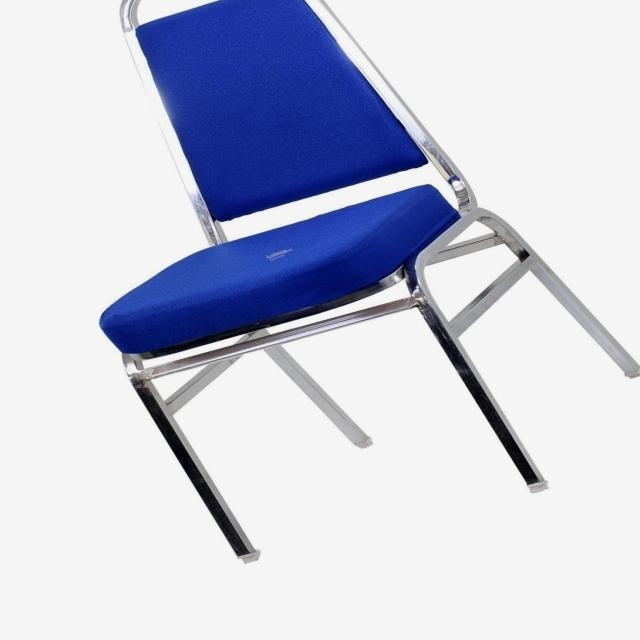Chair: (96, 1, 640, 563)
